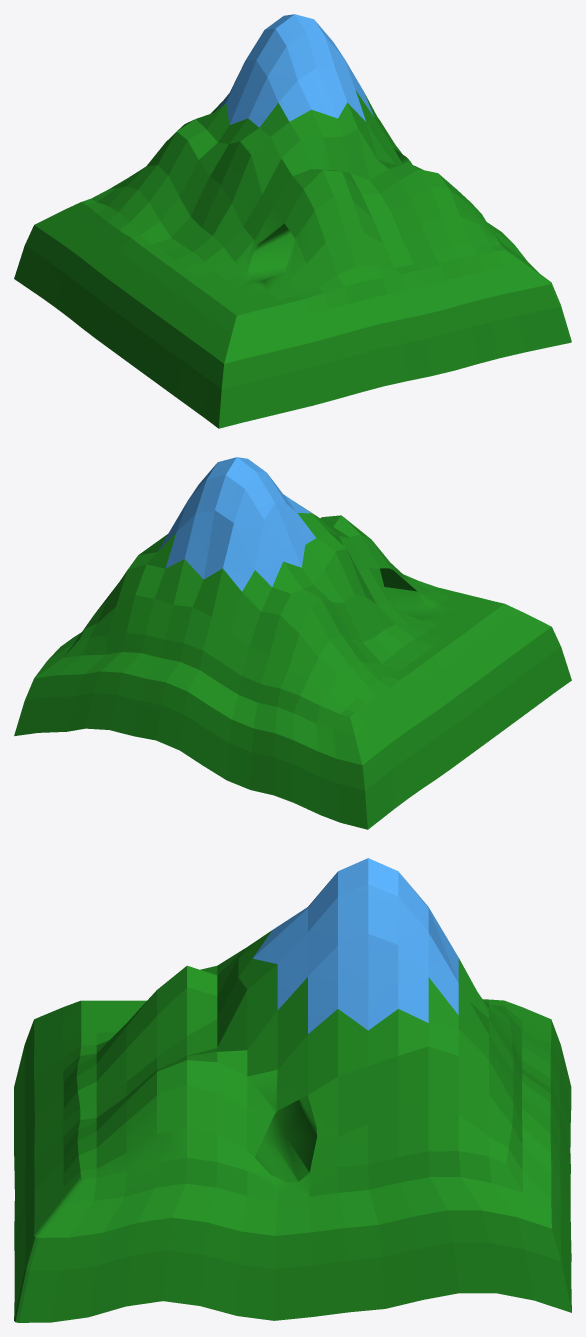
The model's file is DOuble Entraces Moutain ICe Island 1.fbx.
3 renders of one model, top to bottom at view 1: azimuth 30°, elevation 25°; view 2: azimuth 150°, elevation 25°; view 3: azimuth 270°, elevation 25°, orthographic. The views are drawn at different scales.
Parts seen in each view (by area): view 1: pPlane2; view 2: pPlane2; view 3: pPlane2.
Boxes of the visible parts, left/top/right/bottom form: pPlane2: left=14, top=14, right=571, bottom=428; pPlane2: left=14, top=457, right=571, bottom=829; pPlane2: left=14, top=858, right=571, bottom=1322.
Bounding box in the file's own units: 29.46 × 21.34 × 29.46.
